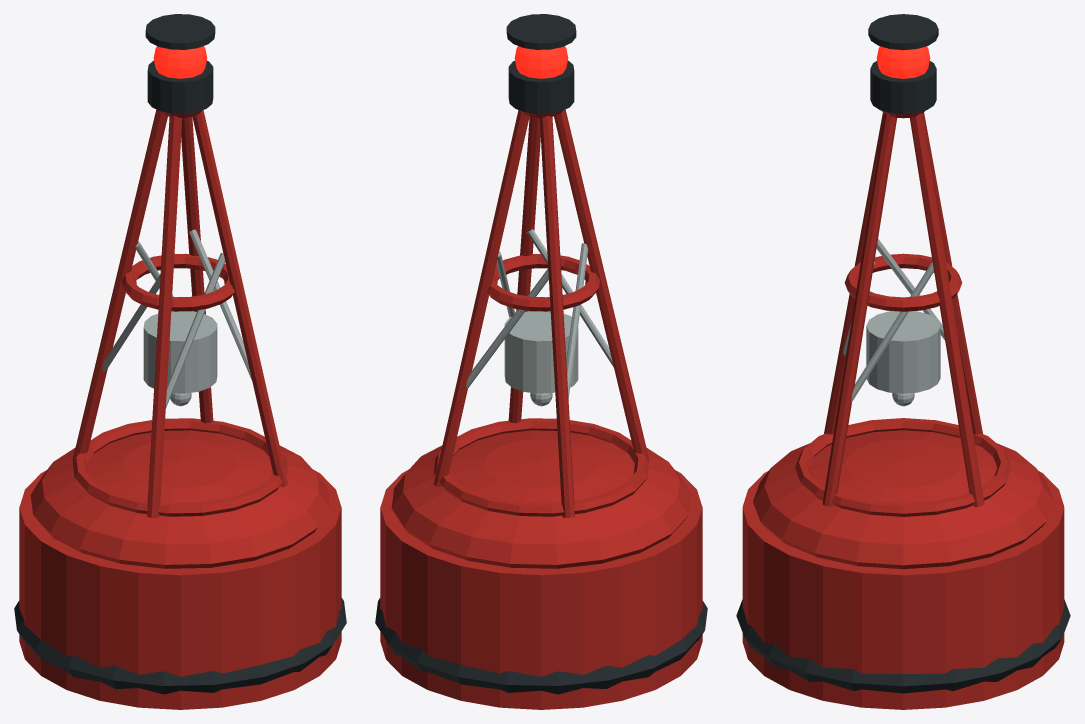
Rendered from buoy.glb.
3 renders of one model, left to right at view 1: azimuth 30°, elevation 25°; view 2: azimuth 150°, elevation 25°; view 3: azimuth 270°, elevation 25°, orthographic.
Visible parts, largest first — view 1: red buoy hull, conical float top, rubber bumper, cage hoop, bell cage tower leg.002, bell cage tower leg.003, bell cage tower leg.001, bell, cage hoop.001, light housing, bell cage tower leg, lamp cap (+4 smaller); view 2: red buoy hull, conical float top, rubber bumper, cage hoop, bell cage tower leg.001, bell cage tower leg, bell cage tower leg.002, bell, cage hoop.001, light housing, bell cage tower leg.003, lamp cap (+4 smaller); view 3: red buoy hull, conical float top, rubber bumper, cage hoop, bell cage tower leg, bell cage tower leg.003, bell, light housing, cage hoop.001, lamp cap, bell cage tower leg.001, bell cage tower leg.002 (+3 smaller).
Boxes of the visible parts, x1=… form: red buoy hull: x1=19, y1=469, x2=341, y2=709; conical float top: x1=30, y1=430, x2=330, y2=568; rubber bumper: x1=14, y1=598, x2=346, y2=694; cage hoop: x1=72, y1=418, x2=288, y2=516; bell cage tower leg.002: x1=147, y1=115, x2=182, y2=517; bell cage tower leg.003: x1=192, y1=110, x2=288, y2=487; bell cage tower leg.001: x1=72, y1=109, x2=167, y2=461; bell: x1=143, y1=311, x2=217, y2=393; cage hoop.001: x1=122, y1=253, x2=234, y2=311; light housing: x1=147, y1=60, x2=213, y2=113; bell cage tower leg: x1=181, y1=117, x2=213, y2=423; lamp cap: x1=145, y1=14, x2=215, y2=49; red buoy hull: x1=380, y1=469, x2=702, y2=709; conical float top: x1=391, y1=430, x2=691, y2=568; rubber bumper: x1=375, y1=598, x2=707, y2=694; cage hoop: x1=433, y1=418, x2=649, y2=516; bell cage tower leg.001: x1=539, y1=115, x2=574, y2=517; bell cage tower leg: x1=433, y1=110, x2=529, y2=487; bell cage tower leg.002: x1=554, y1=109, x2=649, y2=461; bell: x1=504, y1=311, x2=578, y2=393; cage hoop.001: x1=487, y1=254, x2=599, y2=311; light housing: x1=508, y1=60, x2=574, y2=113; bell cage tower leg.003: x1=508, y1=117, x2=540, y2=423; lamp cap: x1=506, y1=14, x2=576, y2=49; red buoy hull: x1=742, y1=471, x2=1064, y2=709; conical float top: x1=753, y1=430, x2=1053, y2=569; rubber bumper: x1=736, y1=599, x2=1070, y2=693; cage hoop: x1=795, y1=418, x2=1011, y2=516; bell cage tower leg: x1=910, y1=113, x2=984, y2=506; bell cage tower leg.003: x1=822, y1=113, x2=896, y2=506; bell: x1=866, y1=311, x2=940, y2=393; light housing: x1=870, y1=61, x2=936, y2=114; cage hoop.001: x1=844, y1=253, x2=962, y2=311; lamp cap: x1=868, y1=14, x2=938, y2=50; bell cage tower leg.001: x1=922, y1=112, x2=982, y2=434; bell cage tower leg.002: x1=824, y1=112, x2=884, y2=434.
Bounding box in the file's own units: 1.62 × 3.28 × 1.62.
